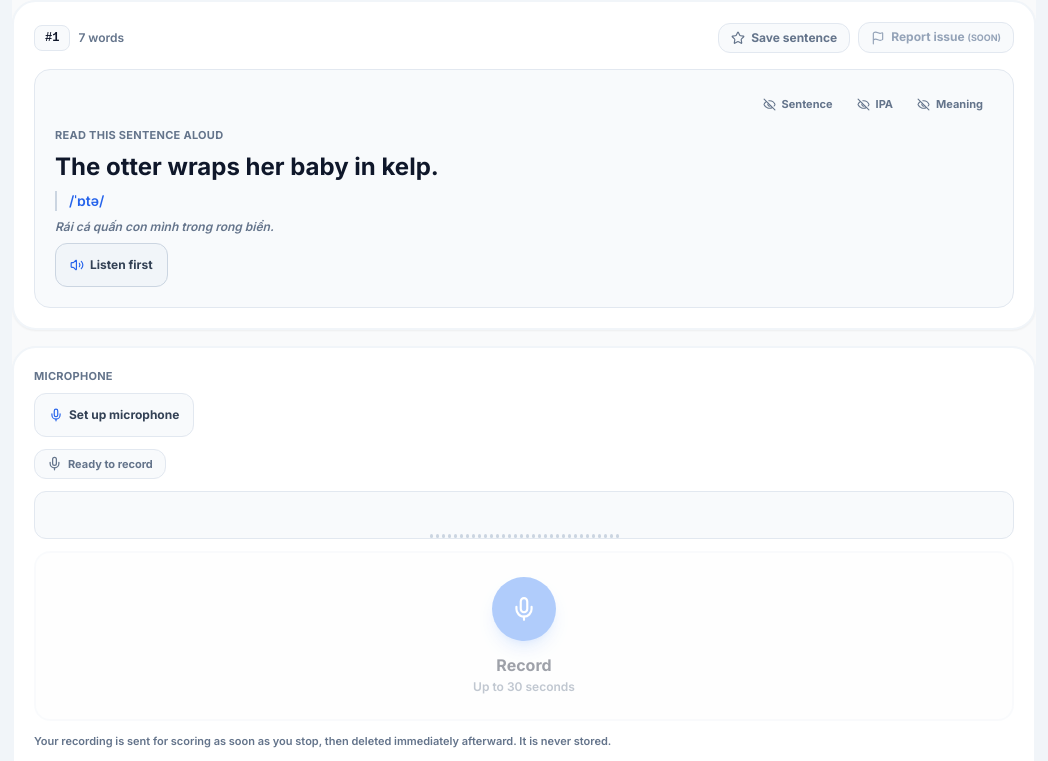
Test case: ShadowingModePanel — transcript › warns during the recording when no sound is reaching the microphone
Click the button "Set up microphone" at {"x": 114, "y": 414}, box left=34, top=392, right=194, bottom=436
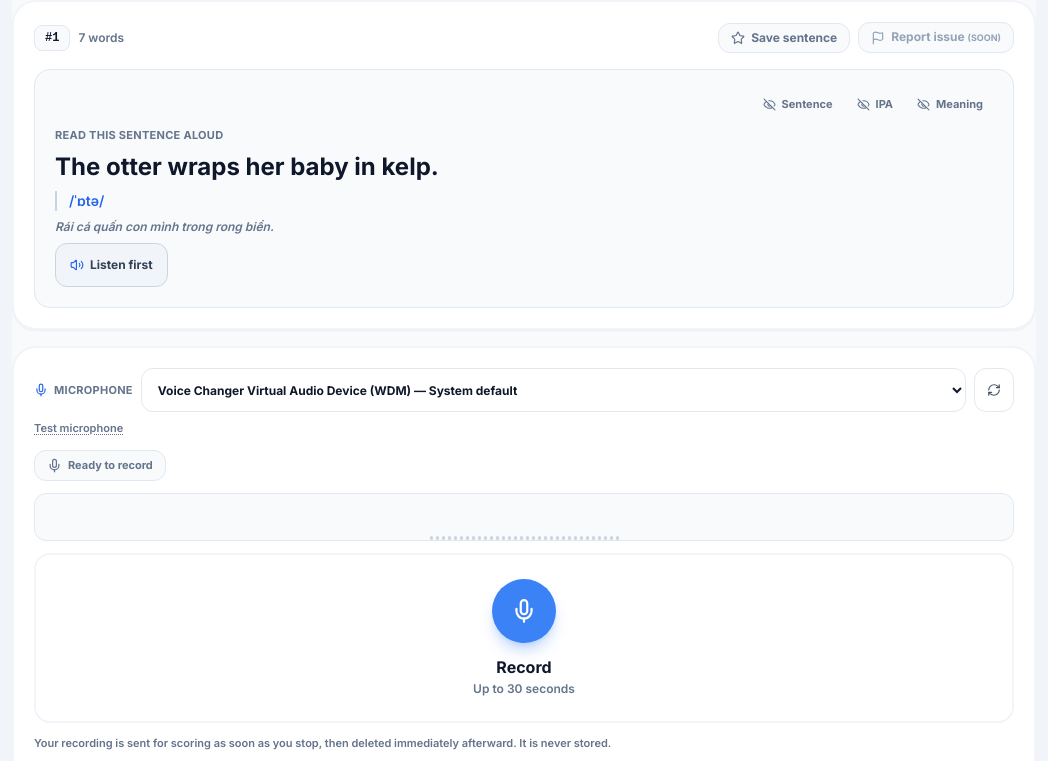
Click the button "Record Up to 30 seconds" at {"x": 524, "y": 638}, box left=34, top=552, right=1014, bottom=722
Wait 2000 ms
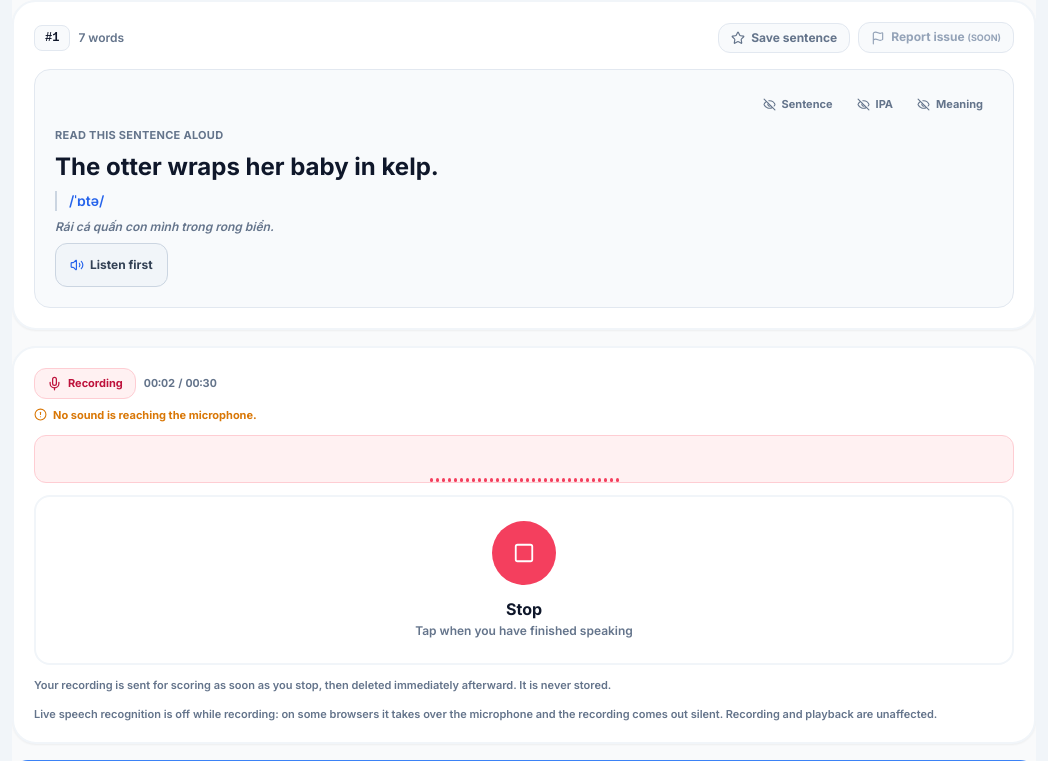
Check: the message reads "No sound is reaching the microphone.", box left=53, top=408, right=257, bottom=422
